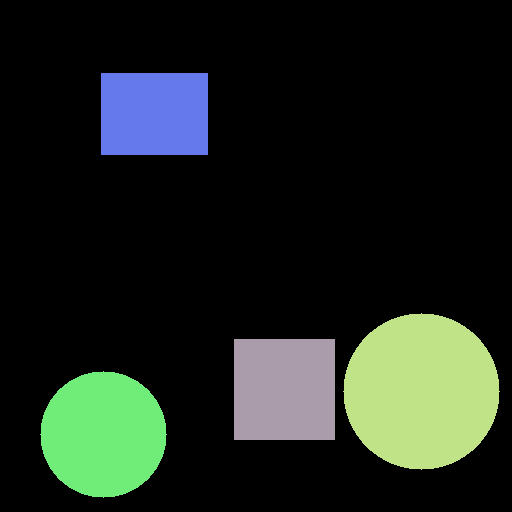circle: (343, 313, 499, 469), (40, 371, 166, 497)
rectangle: (101, 73, 207, 154)
square: (234, 339, 334, 439)
